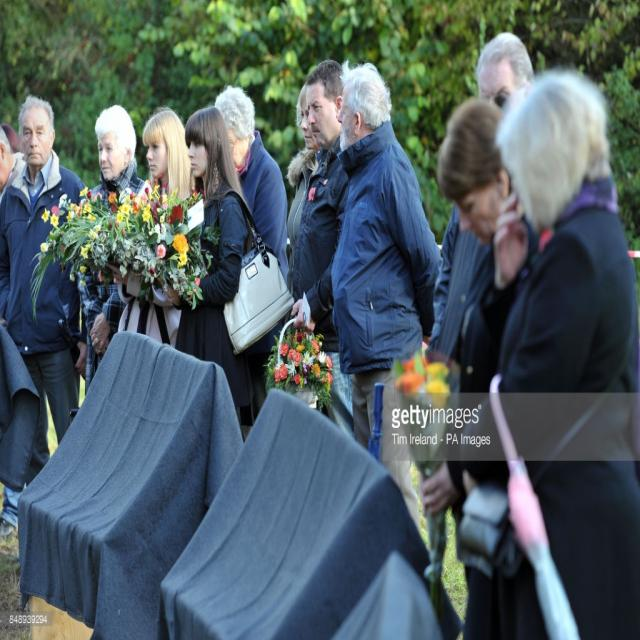body: (452, 65, 640, 639), (418, 95, 540, 640), (328, 58, 442, 545), (166, 105, 294, 444), (423, 30, 535, 400), (0, 94, 90, 490), (212, 83, 290, 429), (290, 59, 356, 439), (104, 107, 198, 350), (0, 120, 48, 550), (82, 104, 146, 397), (285, 77, 321, 341)
